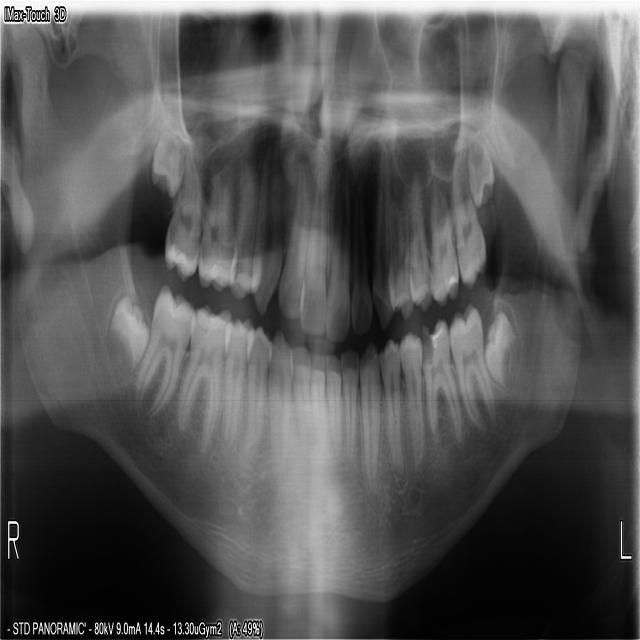LCD: (358, 339, 379, 494)
LCU: (369, 139, 395, 333)
LID: (339, 346, 358, 466), (323, 352, 341, 470)
LIU: (322, 160, 349, 343), (348, 171, 372, 336)
LMD: (445, 301, 496, 429), (417, 315, 462, 444), (482, 307, 518, 390)
LMU: (449, 145, 487, 291), (427, 157, 458, 307), (466, 132, 494, 210)
LPMD: (377, 335, 404, 478), (397, 327, 423, 470)
LPMU: (386, 145, 415, 323), (407, 164, 432, 314)
RCD: (266, 326, 292, 491)
RCU: (248, 133, 283, 320)
RID: (288, 342, 311, 482), (306, 349, 328, 465)
RIU: (275, 154, 312, 321), (296, 143, 327, 338)
RMD: (175, 301, 231, 454), (133, 283, 194, 418), (106, 290, 148, 372)
RMU: (194, 142, 238, 292), (160, 150, 203, 285), (148, 118, 184, 201)
RPMD: (239, 323, 271, 472), (220, 313, 253, 455)
RPMU: (226, 145, 261, 302)
